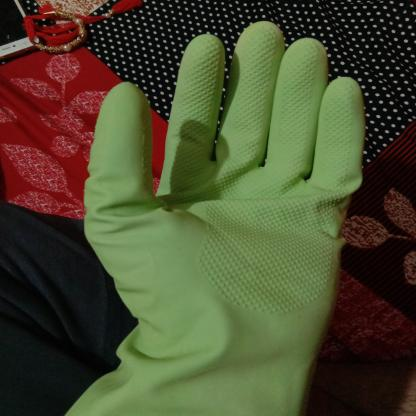gloved_hand: (56, 20, 369, 414)
